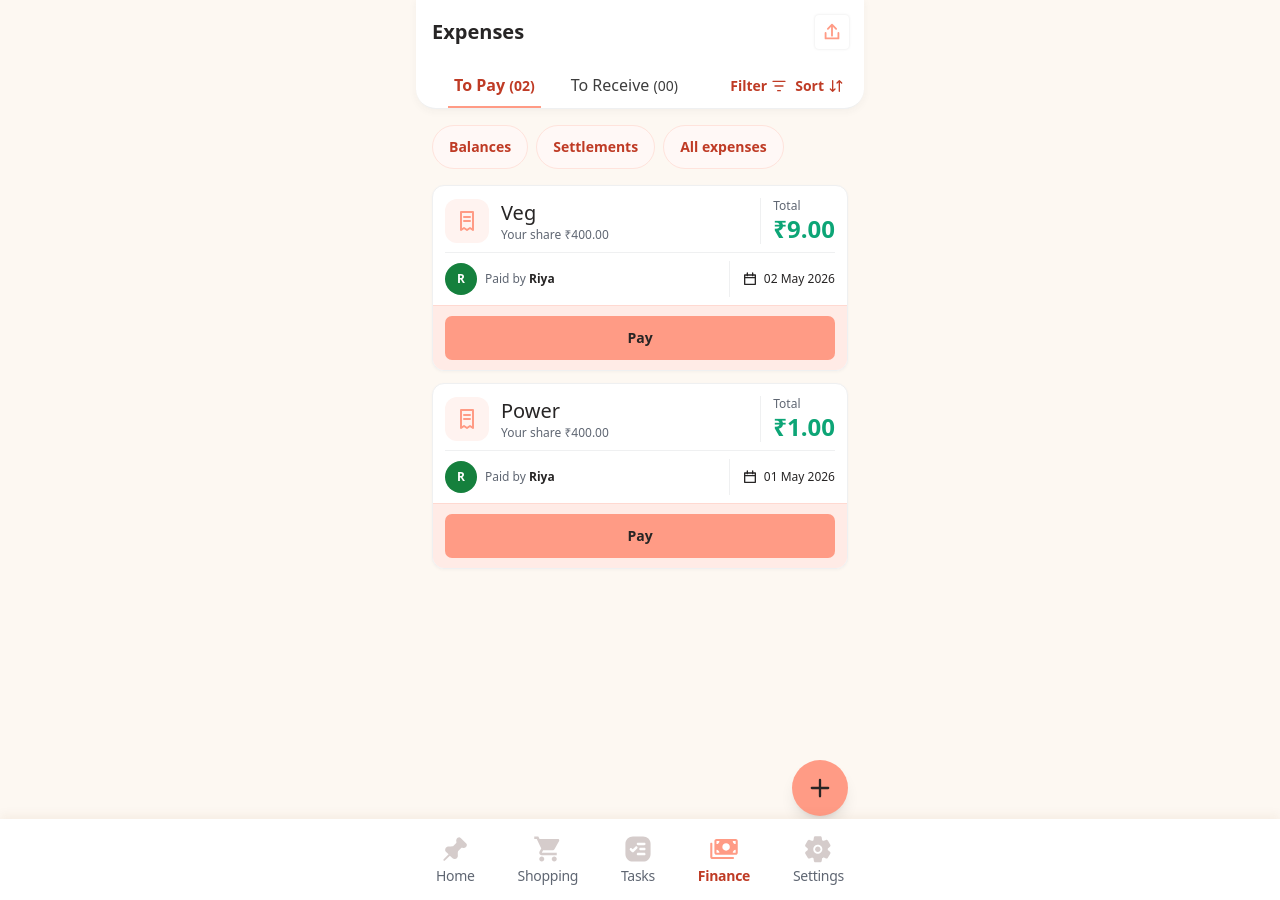
Test: Expenses tab › filters by category and sorts from the menus
The image size is (1280, 900).
Expected: the text "Power" is shown, [501,396,560,424]
Click the button "Sort": (820, 86) [791,64,848,108]
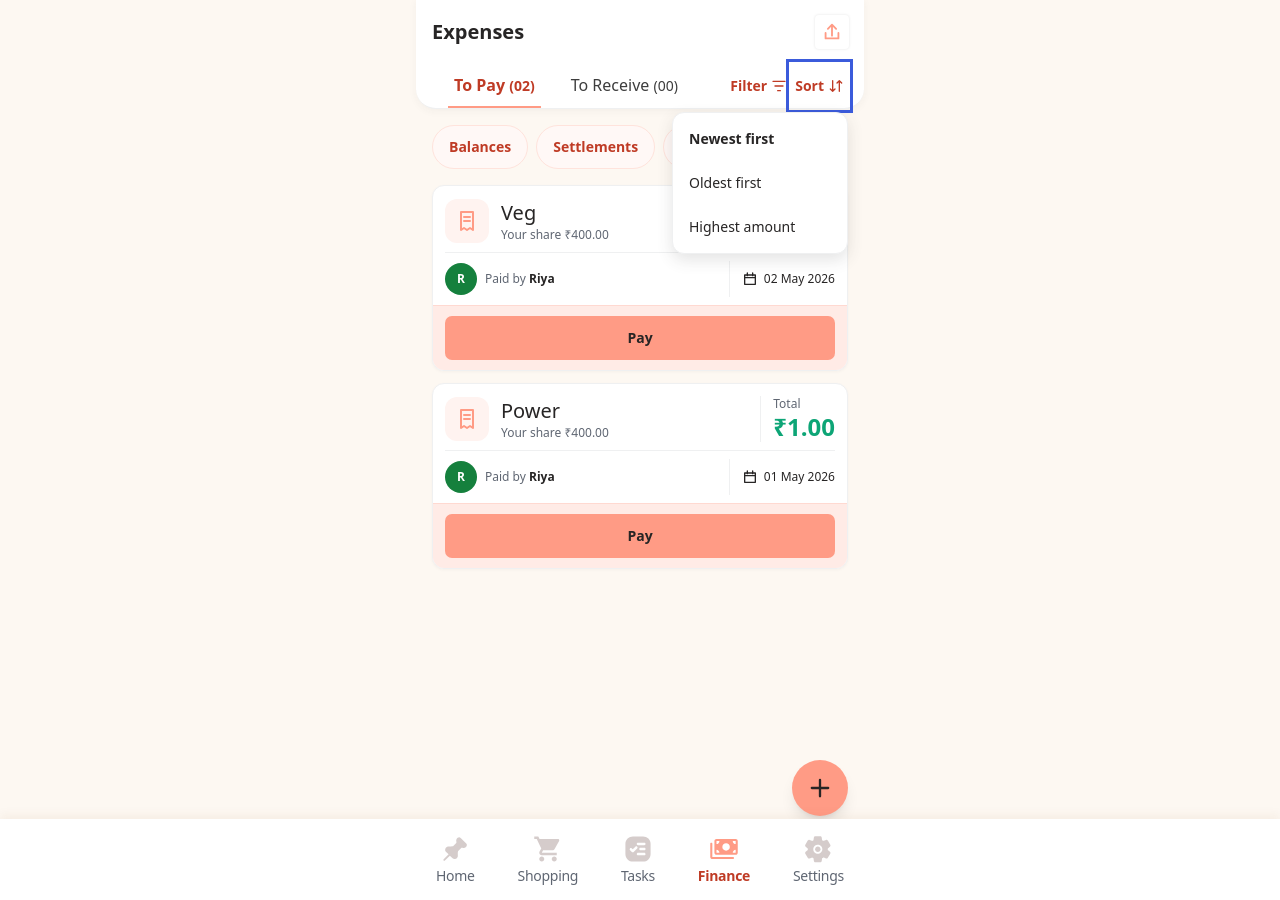
Click the menu item "Oldest first": (760, 183) [673,161,847,205]
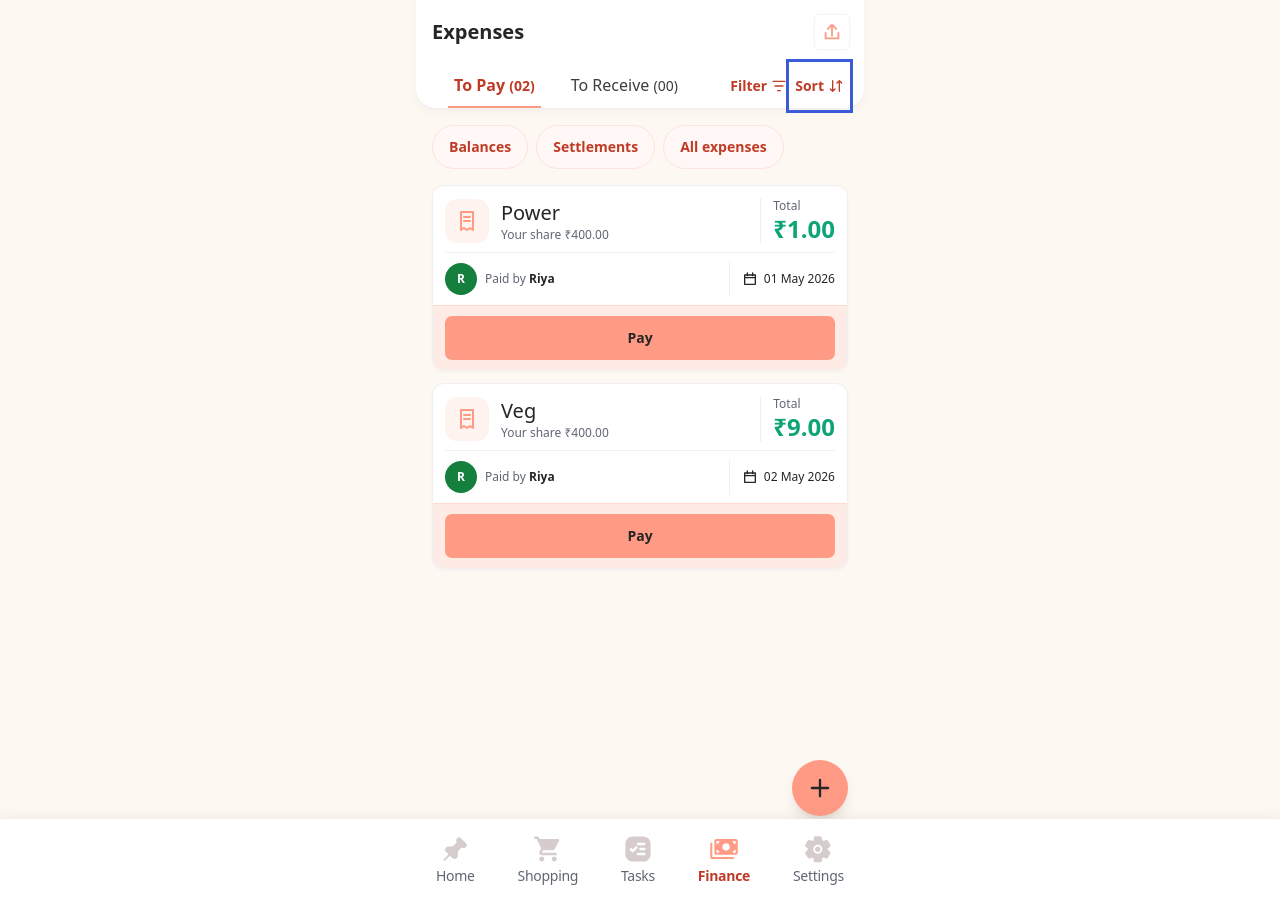
Click the button "Filter": (759, 86) [726,64,791,108]
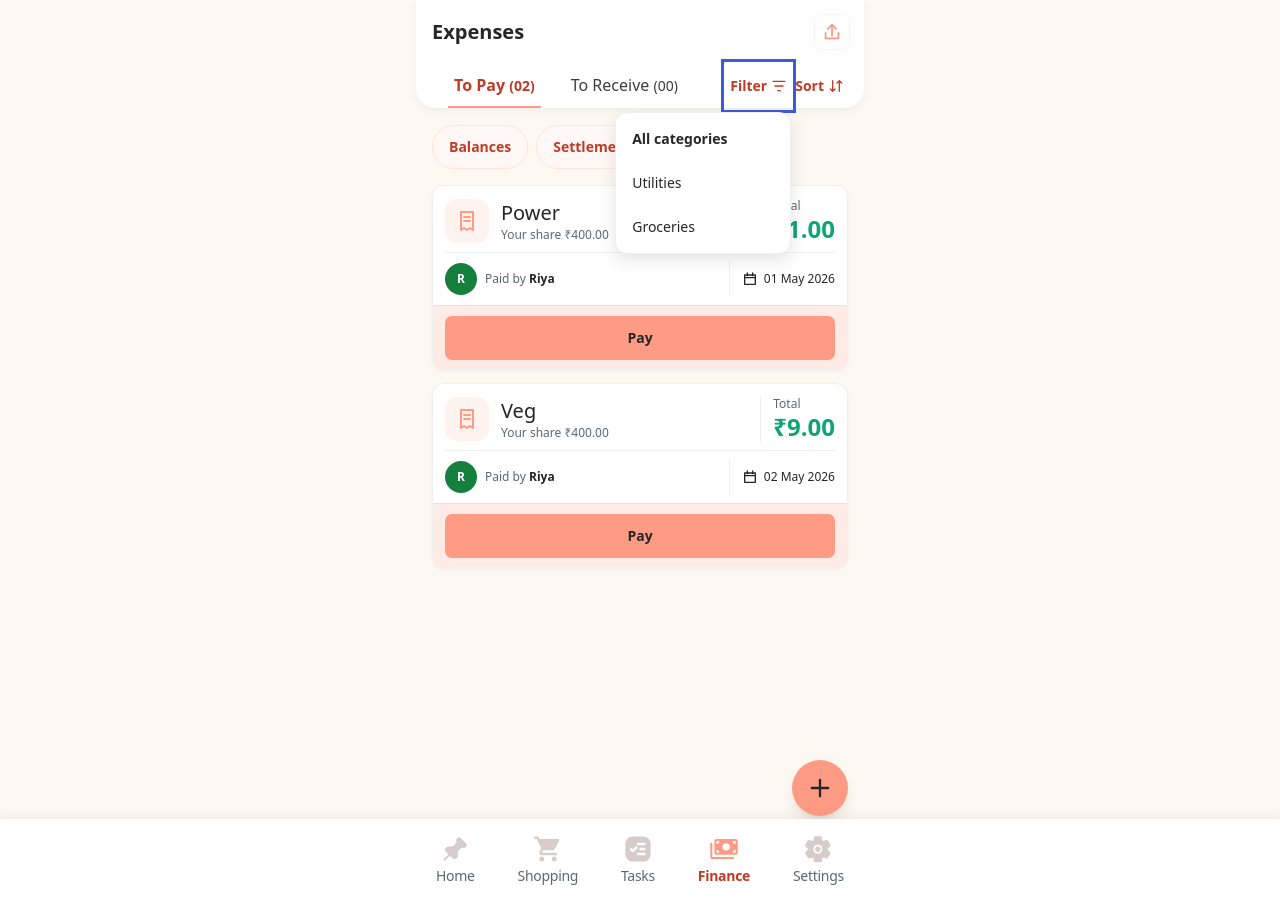
Click the menu item "Groceries": (703, 227) [616,205,790,249]
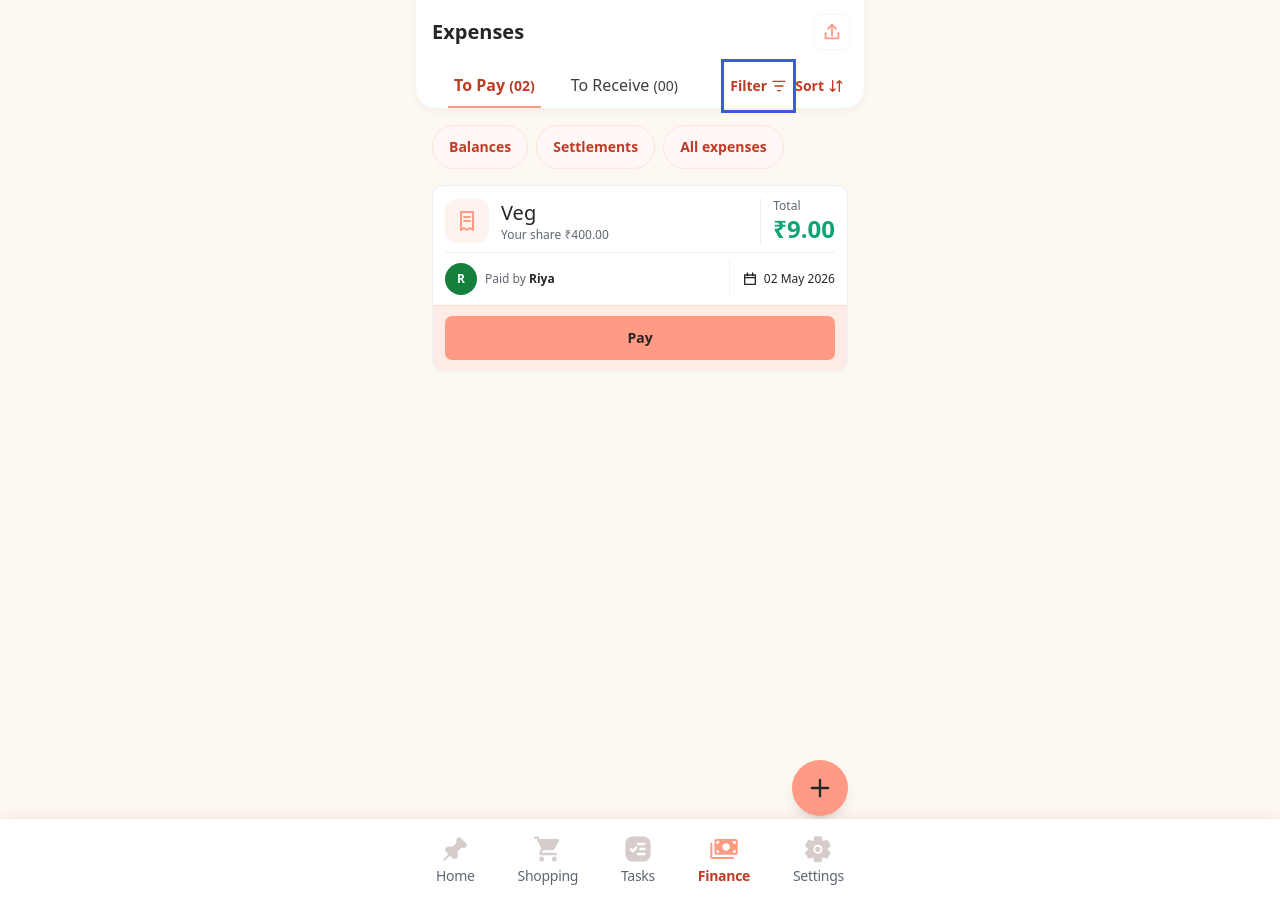
Expected: the text "Veg" is shown, [501,198,536,226]
Expected: the link "Power" is gone
